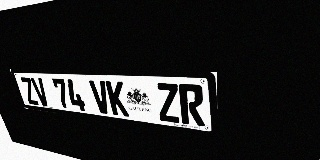4: (64, 79, 86, 111)
7: (51, 78, 73, 109)
K: (105, 81, 129, 117)
R: (178, 84, 205, 126)
V: (89, 80, 112, 115), (30, 78, 51, 107)
Z: (155, 83, 181, 123), (19, 77, 40, 105)
